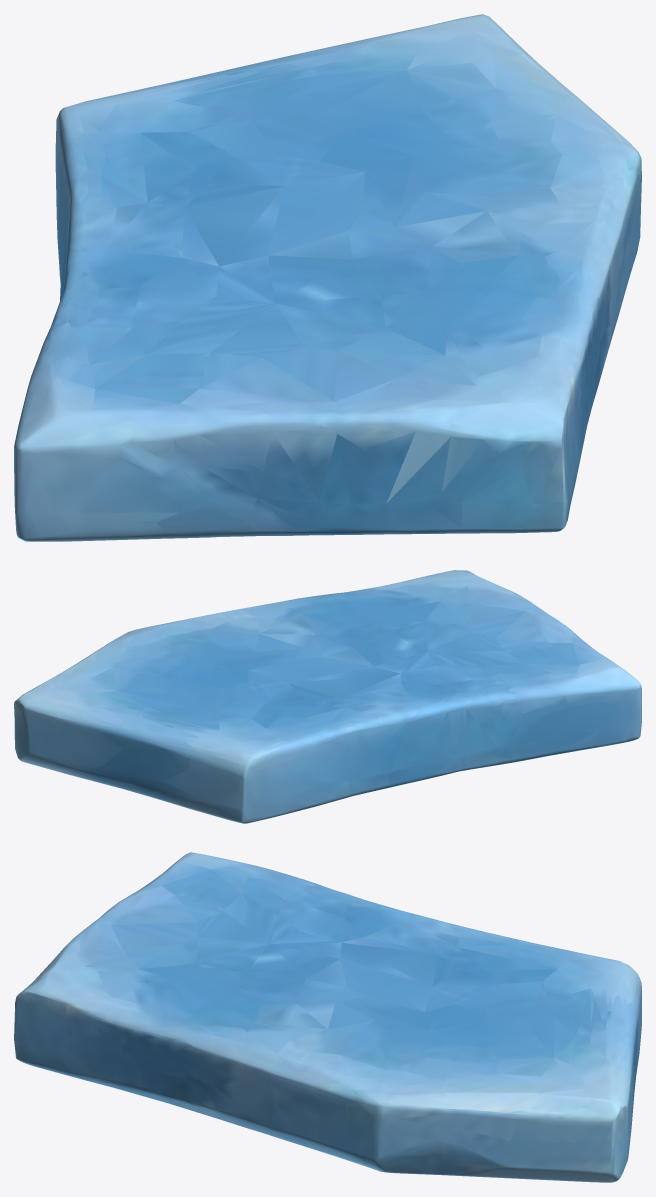
Rendered from placa_hielo_rota_2_2500.glb.
The picture shows the model from 3 angles, top to bottom: view 1: azimuth 30°, elevation 25°; view 2: azimuth 150°, elevation 25°; view 3: azimuth 270°, elevation 25°; orthographic projection. The views are drawn at different scales.
Parts seen in each view (by area): view 1: placa_hielo_rota_2_malla; view 2: placa_hielo_rota_2_malla; view 3: placa_hielo_rota_2_malla.
Boxes of the visible parts, left/top/right/bottom form: placa_hielo_rota_2_malla: left=14, top=14, right=641, bottom=541; placa_hielo_rota_2_malla: left=14, top=570, right=641, bottom=823; placa_hielo_rota_2_malla: left=14, top=852, right=641, bottom=1182.
Bounding box in the file's own units: 0.1835 × 0.0277 × 0.1831.
1 material, 1 textured.
